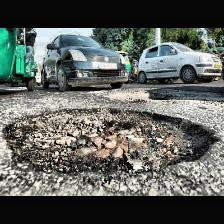pothole: (2, 107, 220, 175), (110, 90, 158, 102)
